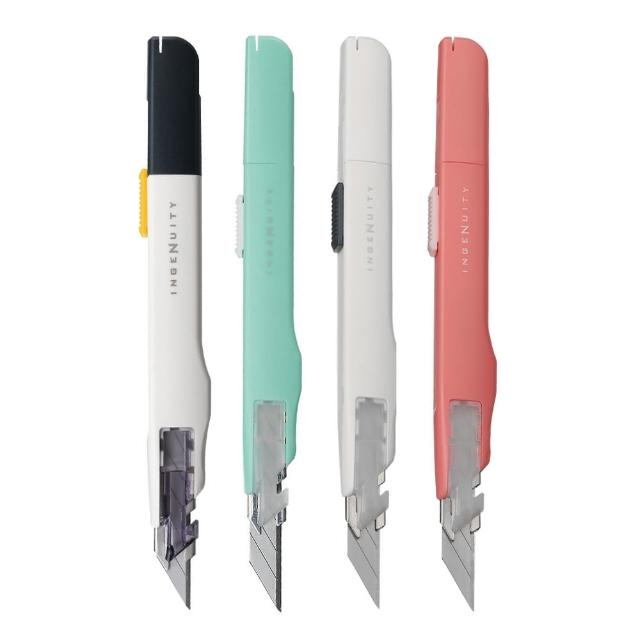cutter: (137, 35, 211, 610), (232, 36, 303, 613), (427, 36, 497, 609), (330, 35, 398, 611)
